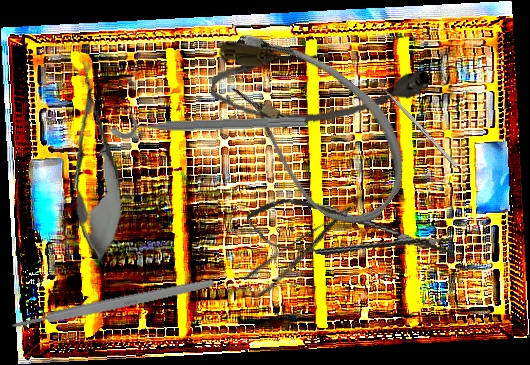Cannula: (186, 10, 434, 242), (209, 39, 431, 134)
Dressing Forceps: (241, 203, 366, 301)
Fixation Ring: (110, 100, 307, 140)
Micro Scissor: (243, 191, 454, 277), (60, 58, 129, 267)
Pusher: (373, 77, 459, 169)
Scalpel Handle: (11, 276, 215, 332)
